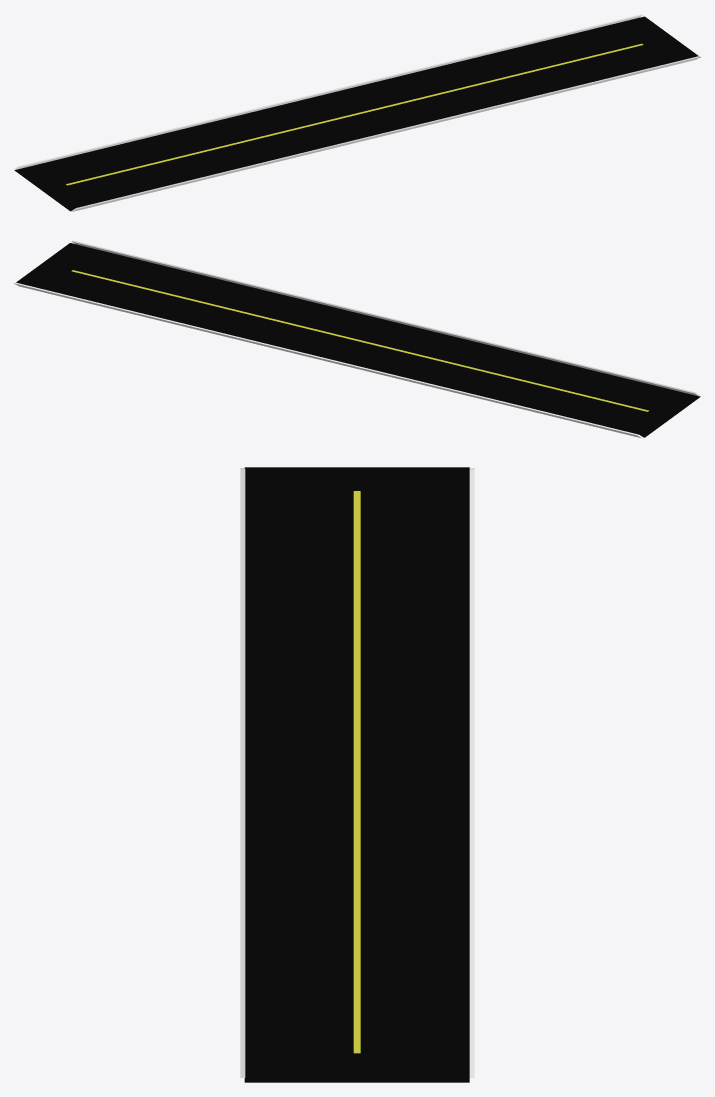
File: street.glb
The picture shows the model from 3 angles, top to bottom: view 1: azimuth 30°, elevation 25°; view 2: azimuth 150°, elevation 25°; view 3: azimuth 270°, elevation 25°; orthographic projection. The views are drawn at different scales.
Visible parts, largest first — view 1: Plane, Cube, Cube.001, Plane.001; view 2: Plane, Cube, Cube.001, Plane.001; view 3: Plane, Plane.001, Cube, Cube.001.
Boxes of the visible parts, x1,y1,x2,y2 form: Plane: (14, 16, 700, 211); Cube: (14, 14, 642, 169); Cube.001: (71, 56, 700, 211); Plane.001: (66, 43, 643, 185); Plane: (14, 243, 700, 437); Cube: (14, 282, 643, 438); Cube.001: (71, 240, 700, 396); Plane.001: (71, 270, 648, 411); Plane: (244, 467, 469, 1082); Plane.001: (353, 491, 360, 1053); Cube: (469, 468, 474, 1077); Cube.001: (240, 468, 245, 1077).
Size of the model in its own units: 51.58 by 0.141 by 8.3.
